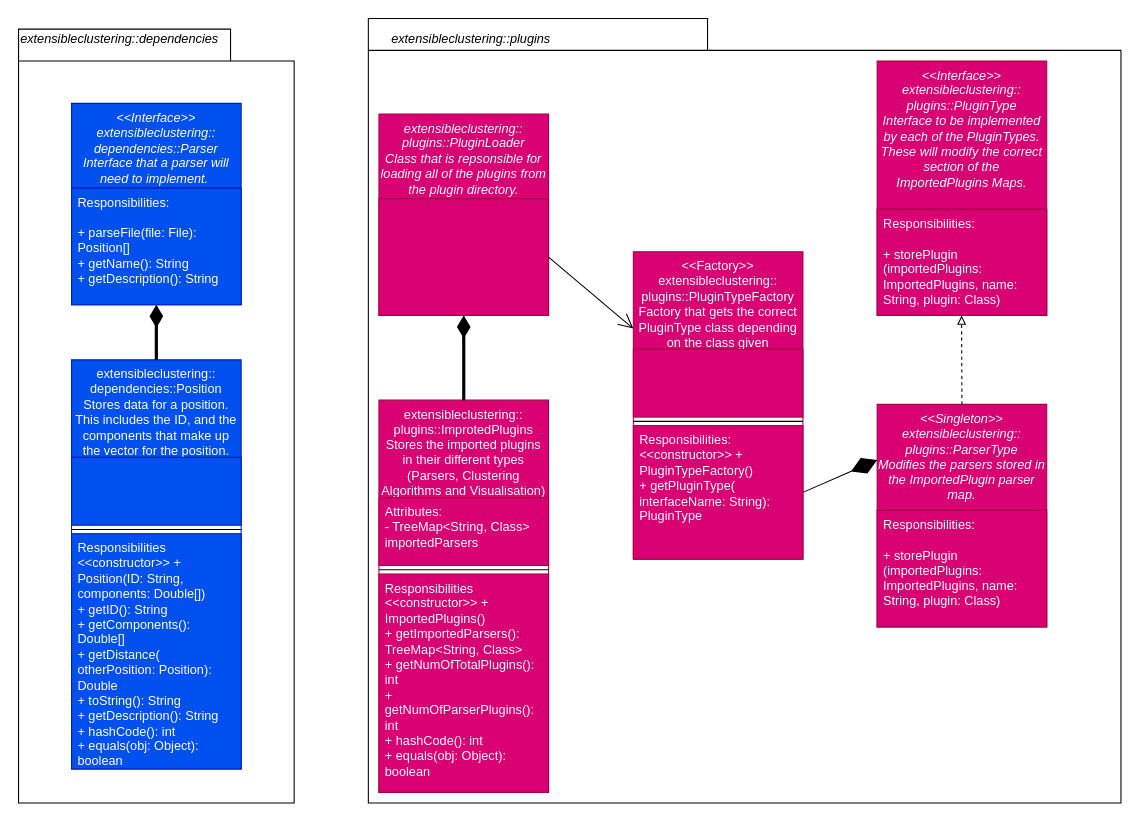
Image size: 1139x821. Some labels were removed from this diagram. Here are the shapes that lost their labels. From the top down, the centre of each, then its label:
the point at 463,256: Responsibilities: + loadPlugins(): ImportedPlugins
the point at 717,382: Attributes: - parserType: ParserType
the point at 155,490: Attributes - ID: String - Components: Double[]
